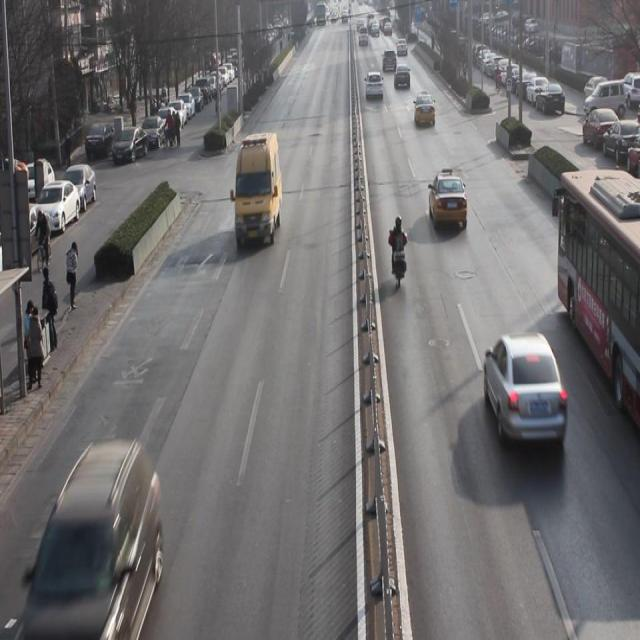car: (25, 441, 165, 630), (483, 332, 569, 462), (429, 170, 468, 237), (413, 92, 437, 131), (366, 72, 386, 108), (395, 66, 413, 94), (384, 50, 397, 73)
truck: (235, 137, 284, 255)
van: (555, 170, 640, 419)
